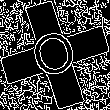O_S: (27, 24, 83, 86)
